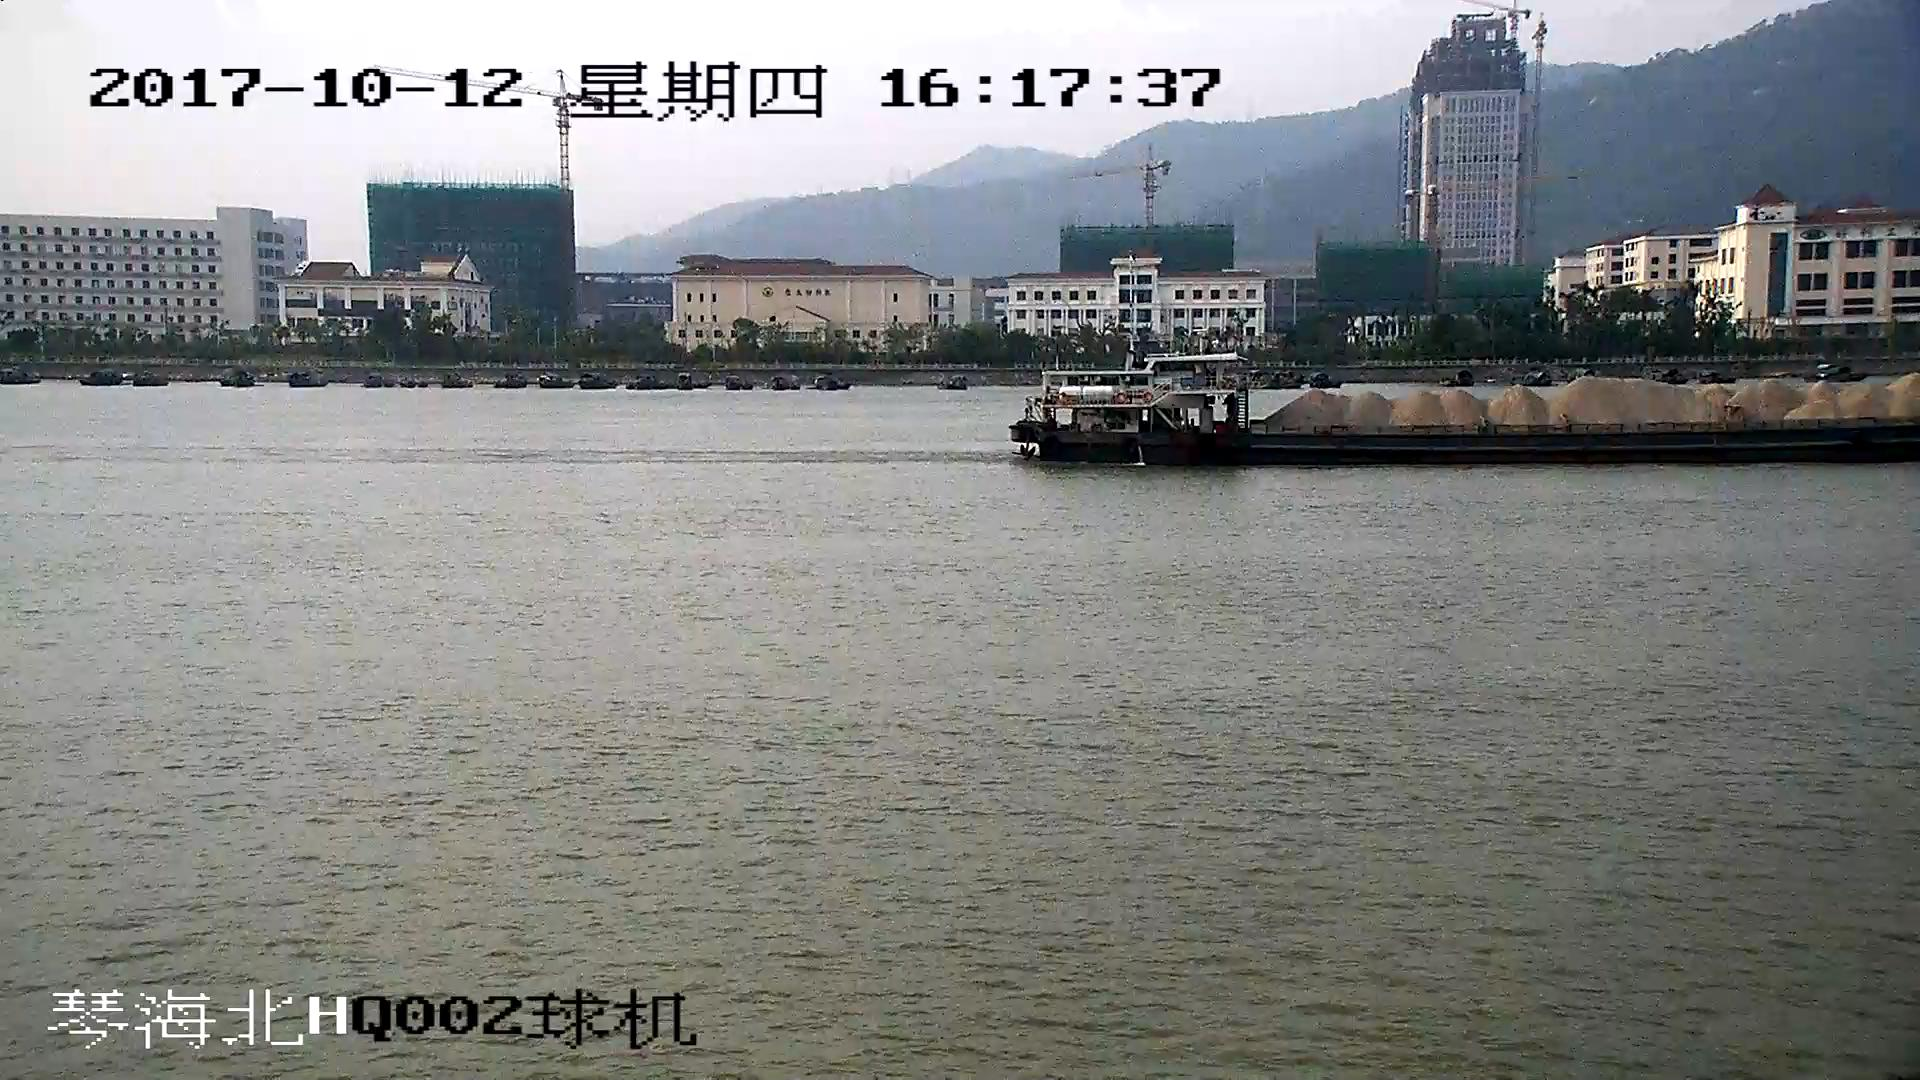ore carrier: (1015, 358, 1920, 469)
